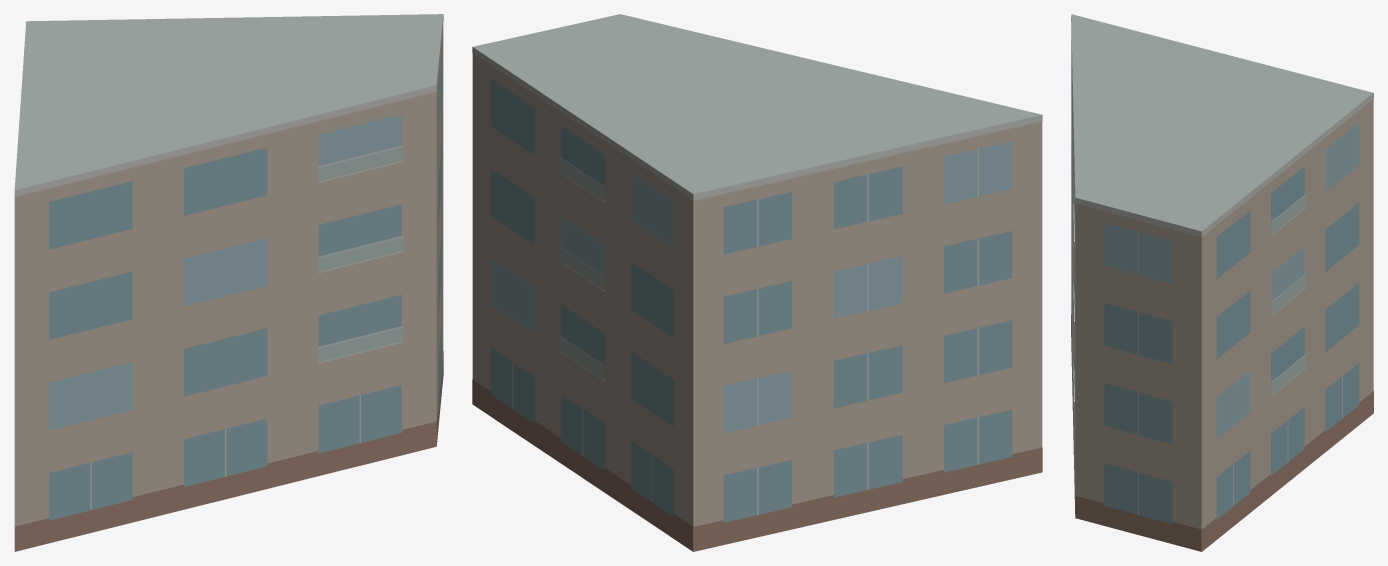
Rendered from survey-upis-32666125.glb.
3 renders of one model, left to right at view 1: azimuth 30°, elevation 25°; view 2: azimuth 150°, elevation 25°; view 3: azimuth 270°, elevation 25°, orthographic. The views are drawn at different scales.
Parts seen in each view (by area): view 1: survey-upis-32666125.tmp; view 2: survey-upis-32666125.tmp; view 3: survey-upis-32666125.tmp.
Part boxes in pixels (x1,y1,x2,y2): survey-upis-32666125.tmp: [14, 14, 443, 551]; survey-upis-32666125.tmp: [472, 14, 1042, 551]; survey-upis-32666125.tmp: [1071, 14, 1373, 551].
Bounding box in the file's own units: 19.36 × 13.3 × 11.39.
